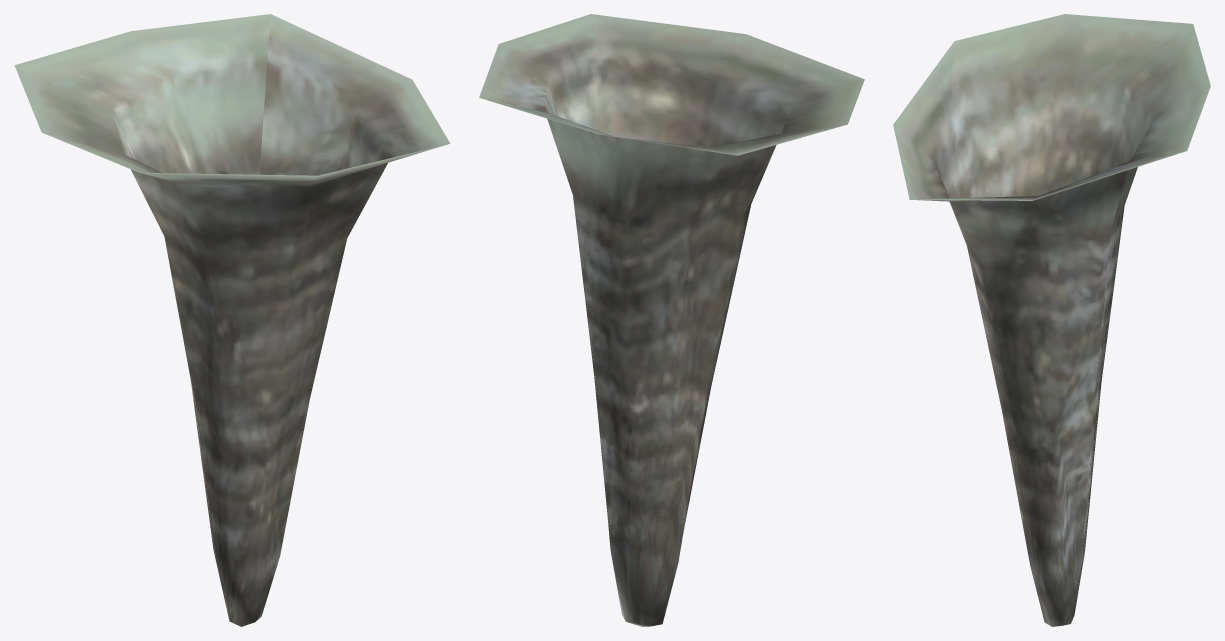
File: TROLLHOLE02_PS-UPPERSTALAG15.fbx
3 views of the same model, side by side, from view 1: azimuth 30°, elevation 25°; view 2: azimuth 150°, elevation 25°; view 3: azimuth 270°, elevation 25° (orthographic). The views are drawn at different scales.
Visible parts, largest first — view 1: TROLLHOLE02_PS-UPPERSTALAG15; view 2: TROLLHOLE02_PS-UPPERSTALAG15; view 3: TROLLHOLE02_PS-UPPERSTALAG15.
Part boxes in pixels (bbox=[...]): TROLLHOLE02_PS-UPPERSTALAG15: bbox=[14, 14, 450, 626]; TROLLHOLE02_PS-UPPERSTALAG15: bbox=[479, 14, 864, 626]; TROLLHOLE02_PS-UPPERSTALAG15: bbox=[893, 14, 1210, 626].
Bounding box in the file's own units: 16194 × 23828 × 13047.
1 material, 1 textured.
